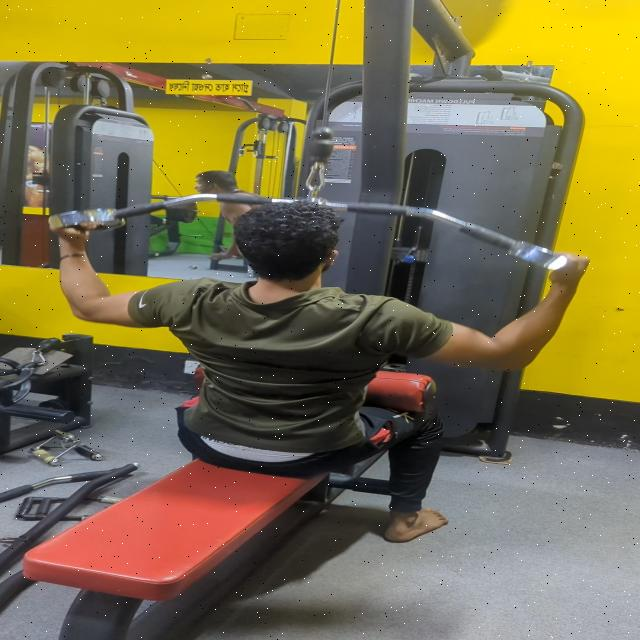Normal_LatPulldown: (0, 90, 615, 640)
